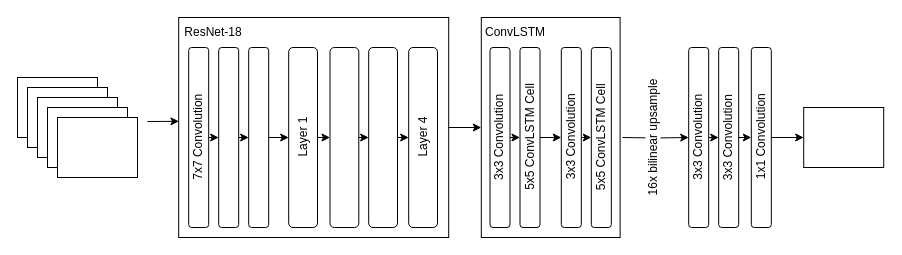
Some shapes in this 902 by 255 pixel diagram are drawn without their labels. Here are the shapes that lost their labels. From the top down, the box of each, then its label:
(56, 116, 138, 178): input sequence
(218, 46, 239, 228): BatchNorm2d
(248, 46, 269, 228): 7x7 MaxPool
(329, 46, 359, 228): Layer 2
(368, 46, 398, 228): Layer 3
(803, 106, 884, 168): density map
